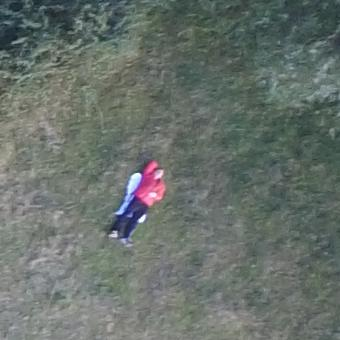human: (107, 159, 167, 245)
